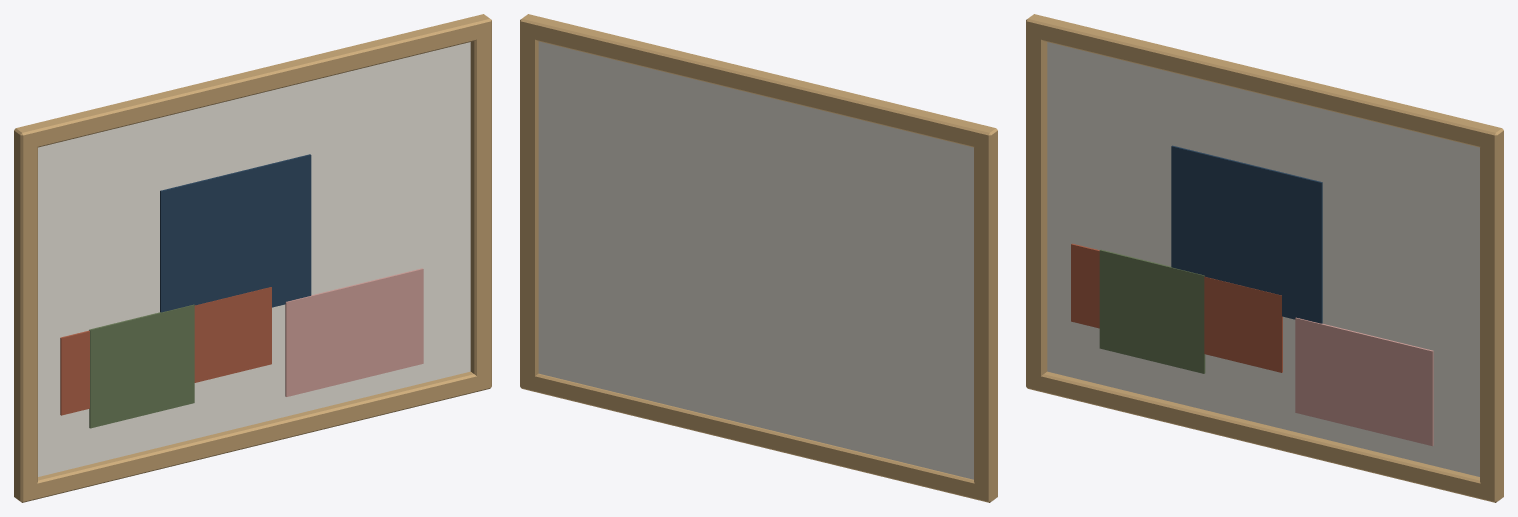
The model's file is i_pic_7.glb.
3 views of the same model, side by side, from view 1: azimuth 30°, elevation 25°; view 2: azimuth 150°, elevation 25°; view 3: azimuth 330°, elevation 25° (orthographic).
Parts seen in each view (by area): view 1: o.004, o.005, o.008, o.001, o.007, o, o.002, o.006, o.003; view 2: o.004, o.001, o, o.002, o.003; view 3: o.004, o.005, o.008, o.001, o.007, o, o.003, o.006, o.002.
Boxes of the visible parts, x1,y1,x2,y2 form: o.004: (38,42,470,476); o.005: (160,154,311,312); o.008: (285,268,423,396); o.001: (14,17,476,150); o.007: (89,304,194,428); o: (14,371,491,502); o.002: (14,125,37,502); o.006: (60,287,271,415); o.003: (470,14,491,391); o.004: (538,41,973,479); o.001: (520,17,997,150); o: (520,372,997,502); o.002: (974,125,997,502); o.003: (520,14,541,391); o.004: (1047,42,1479,476); o.005: (1171,145,1322,323); o.008: (1295,317,1433,446); o.001: (1026,17,1503,150); o.007: (1099,249,1205,373); o: (1026,371,1503,502); o.003: (1480,125,1503,502); o.006: (1071,243,1282,372); o.002: (1026,14,1047,391).
Size of the model in its own units: 0.8 by 0.6 by 0.025.
